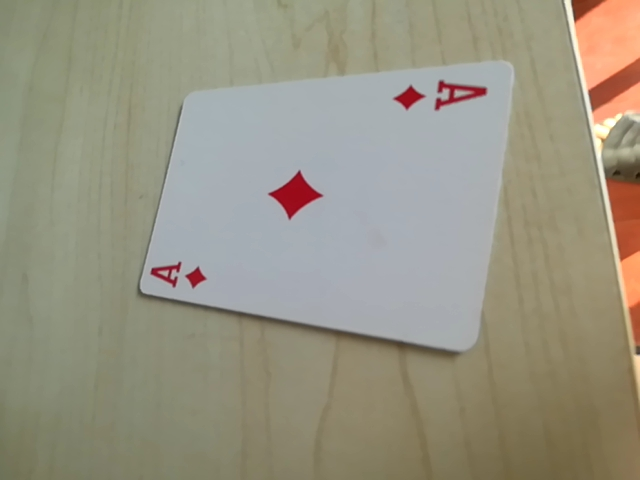fk a: (394, 73, 493, 118), (142, 253, 214, 296)
